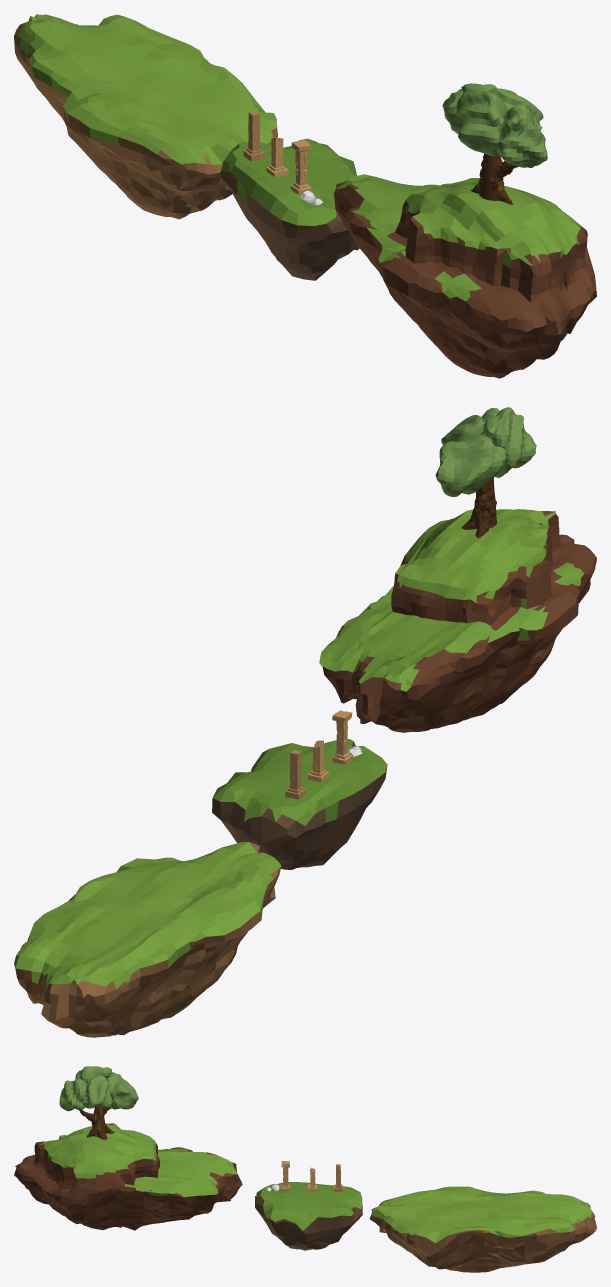
Rendered from Scenery1.fbx.
3 renders of one model, top to bottom at view 1: azimuth 30°, elevation 25°; view 2: azimuth 150°, elevation 25°; view 3: azimuth 270°, elevation 25°, orthographic. The views are drawn at different scales.
Parts seen in each view (by area): view 1: Cube.004, Cube.007, Cube, Sphere, Cylinder, Cube.002, Cube.003, Cube.001; view 2: Cube.004, Cube.007, Cube, Sphere, Cylinder; view 3: Cube.004, Cube.007, Cube, Sphere, Cylinder.
Part boxes in pixels (<box>): Cube.004: <box>334,174,596,378</box>; Cube.007: <box>14,14,277,219</box>; Cube: <box>221,138,359,280</box>; Sphere: <box>442,83,547,167</box>; Cylinder: <box>470,153,518,204</box>; Cube.002: <box>290,140,311,194</box>; Cube.003: <box>243,110,265,161</box>; Cube.001: <box>266,137,288,176</box>; Cube.004: <box>319,509,596,732</box>; Cube.007: <box>14,842,281,1037</box>; Cube: <box>212,739,387,869</box>; Sphere: <box>435,407,536,496</box>; Cylinder: <box>461,477,496,538</box>; Cube.004: <box>14,1123,242,1230</box>; Cube.007: <box>369,1186,596,1272</box>; Cube: <box>255,1182,362,1250</box>; Sphere: <box>59,1066,138,1111</box>; Cylinder: <box>79,1106,114,1139</box>.
Bounding box in the file's own units: 2524 × 13413 × 5163.
